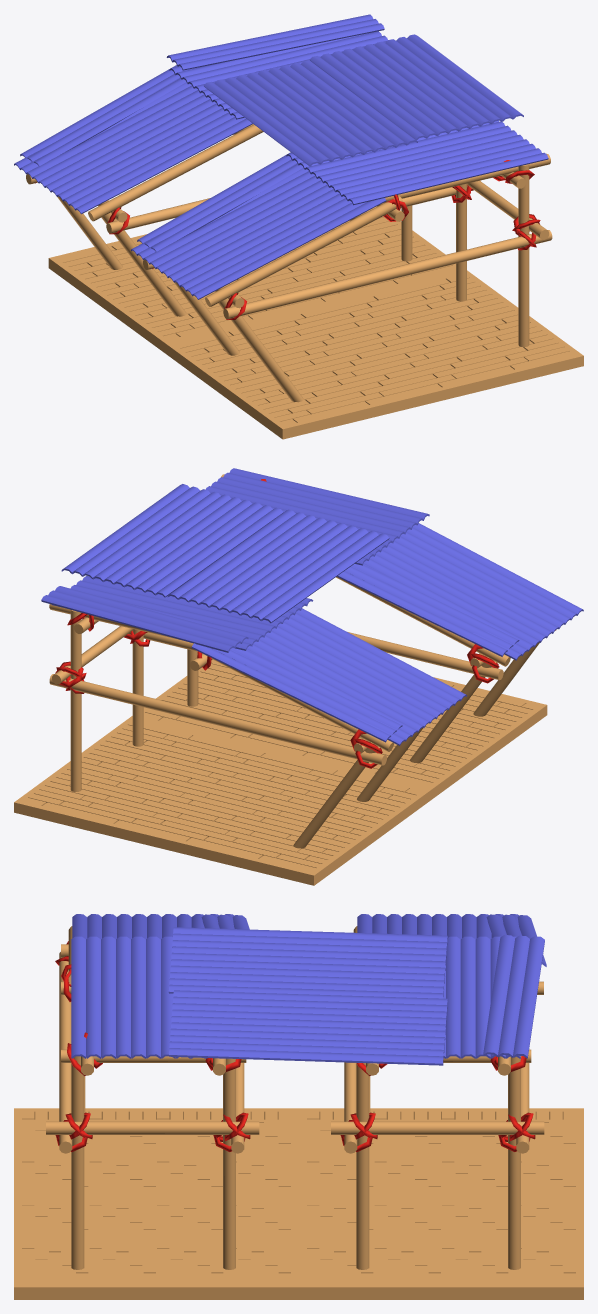
The model's file is Stall05.fbx.
3 views of the same model, one above another, from view 1: azimuth 30°, elevation 25°; view 2: azimuth 150°, elevation 25°; view 3: azimuth 270°, elevation 25° (orthographic). The views are drawn at different scales.
Parts seen in each view (by area): view 1: Cube.005; view 2: Cube.005; view 3: Cube.005.
Boxes of the visible parts, box(x1,y1,x2,y2) form: Cube.005: box(14, 14, 583, 439); Cube.005: box(14, 468, 583, 885); Cube.005: box(14, 914, 583, 1299).
Bounding box in the file's own units: 732 × 387 × 797.
